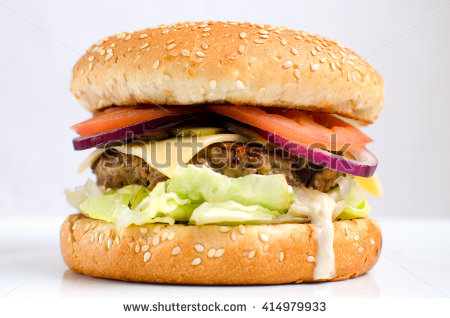hamburger: (56, 12, 391, 286)
